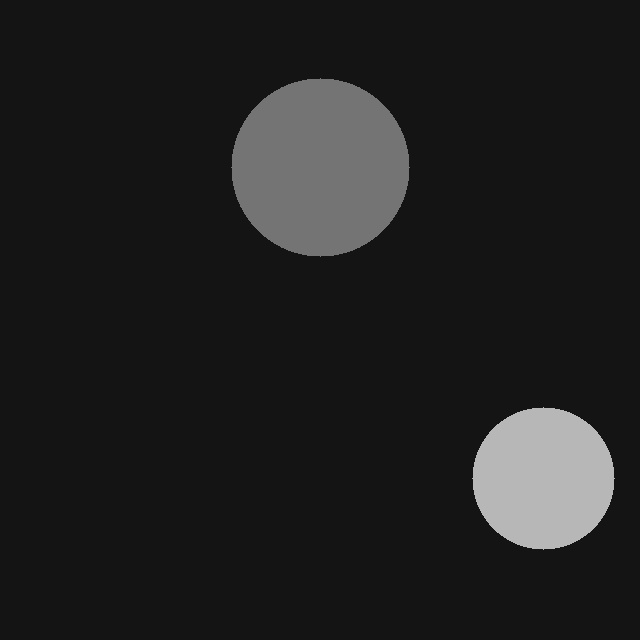circle: (231, 78, 409, 256), (472, 407, 614, 549)
